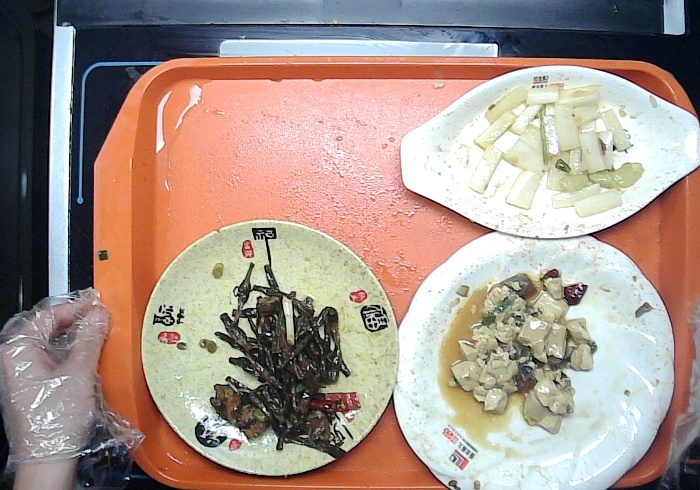NLDX-Bai_Zhe_Yuan_Pan: (383, 222, 681, 490)
NLDX-Fu_Zi_Yuan_Pan: (132, 204, 401, 480)
NLDX-Yu_Pan: (393, 62, 700, 241)
